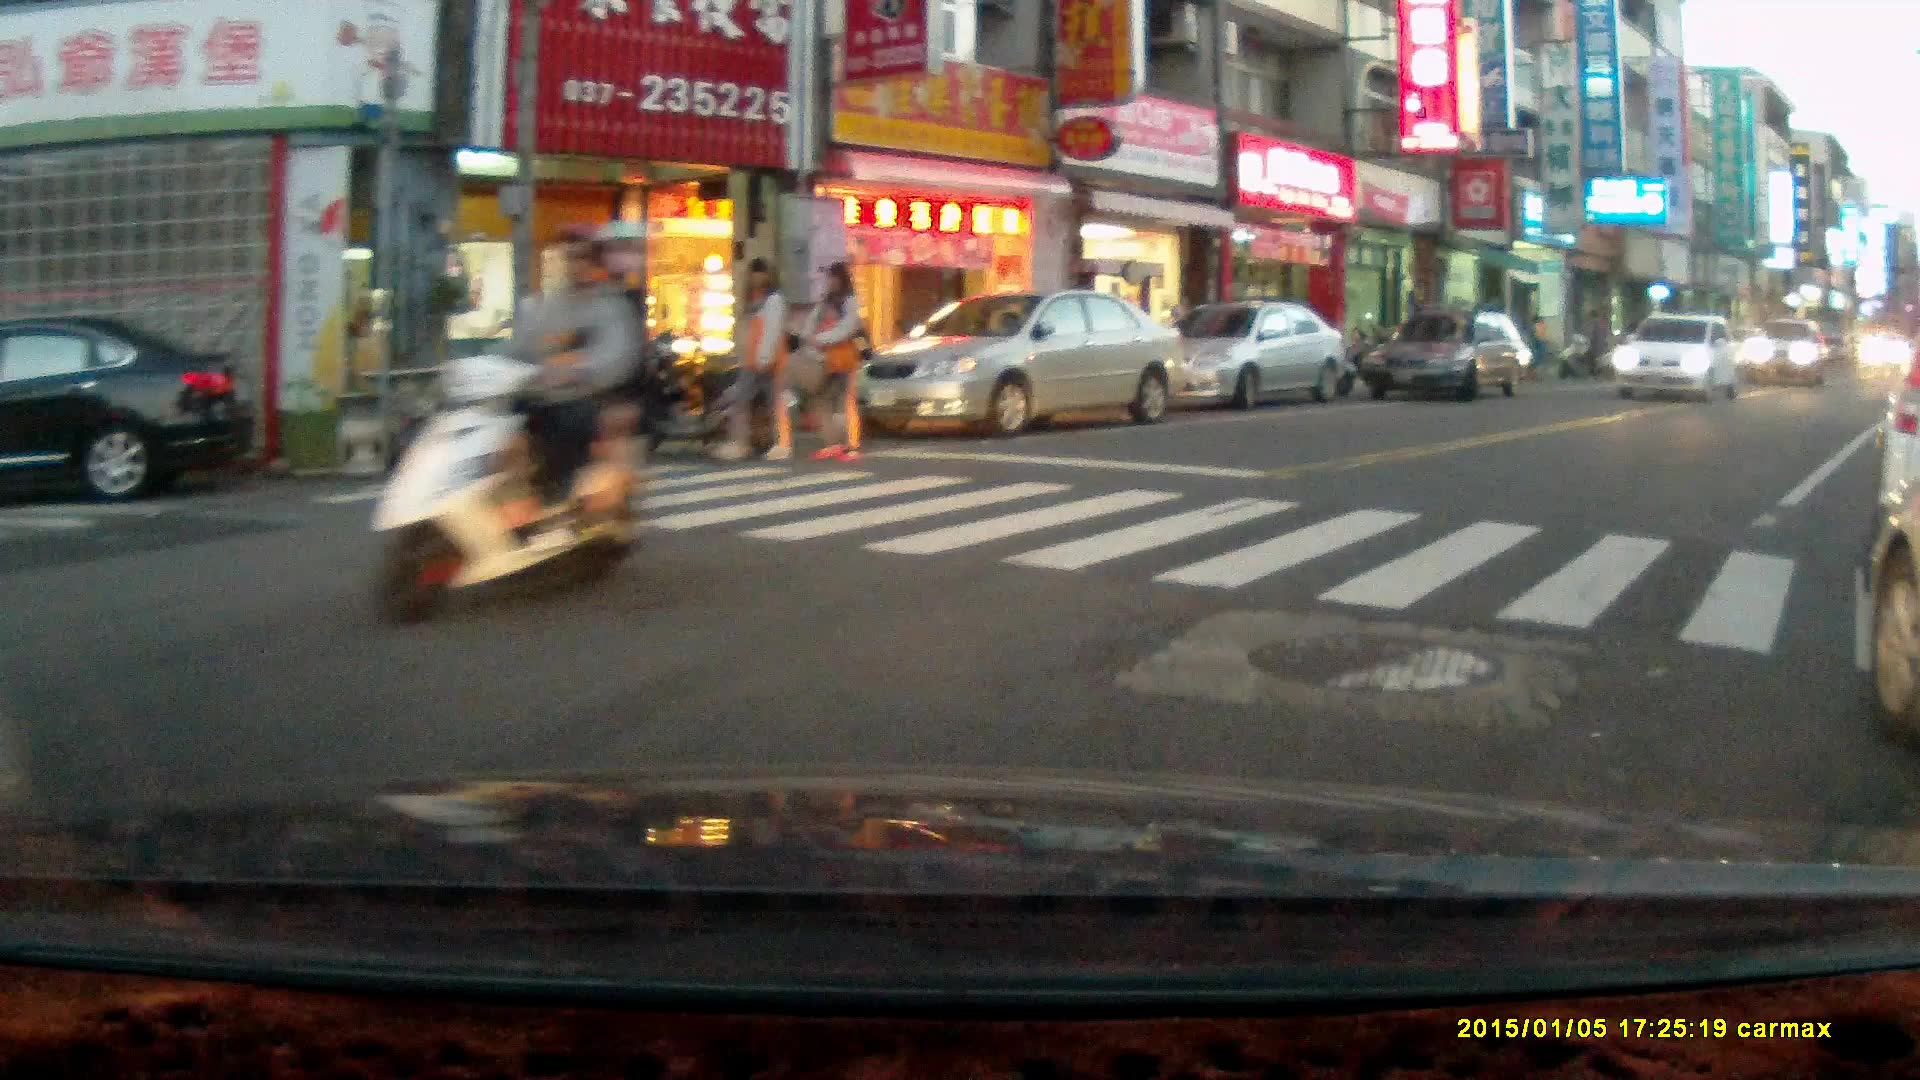pedestrian: (708, 258, 797, 464), (794, 259, 870, 464)
rider: (364, 217, 655, 630)
vehicle: (2, 309, 265, 504), (841, 293, 1188, 439), (1135, 300, 1350, 413), (1363, 311, 1538, 405), (1610, 314, 1744, 401), (1738, 318, 1834, 389), (1850, 327, 1905, 372)
